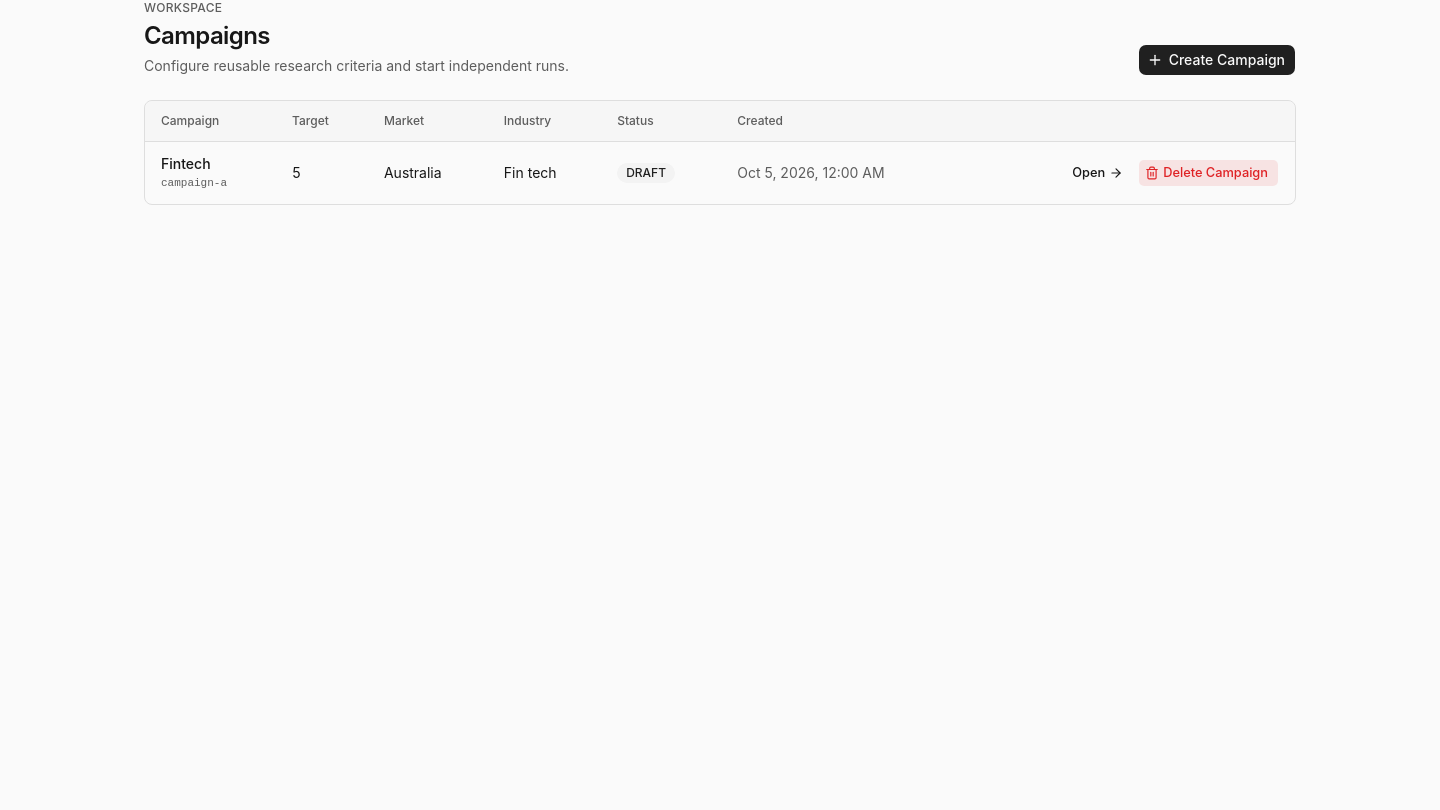
Scenario: CampaignsPage › deletes the selected campaign and refreshes the list after success
The width and height of the screenshot is (1440, 810).
Click the button with aria-label "Delete Campaign campaign-a" at (1209, 173), box [1138,159,1279,187]
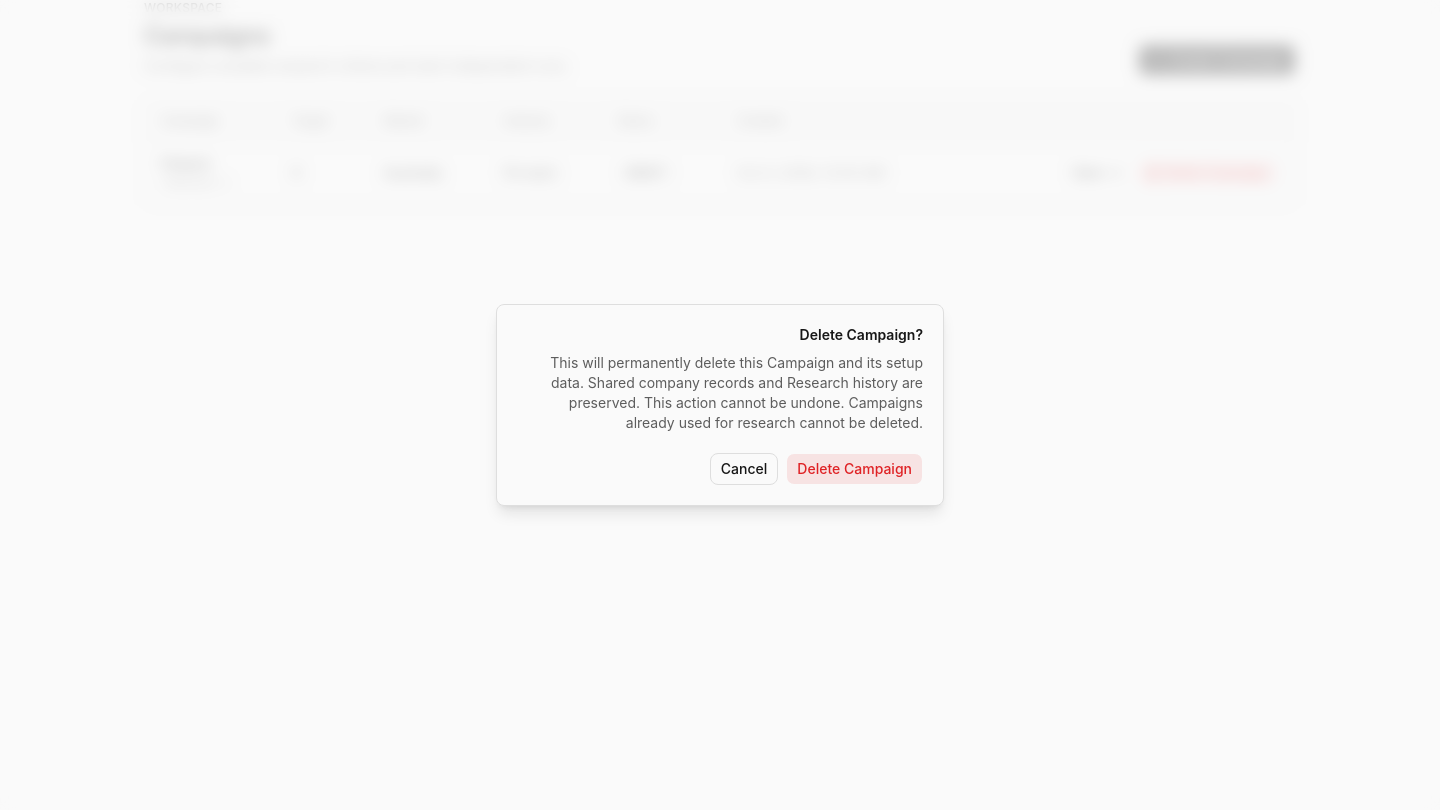
Click the button "Delete Campaign" below "Delete Campaign?" at (855, 469), box [786,453,923,485]
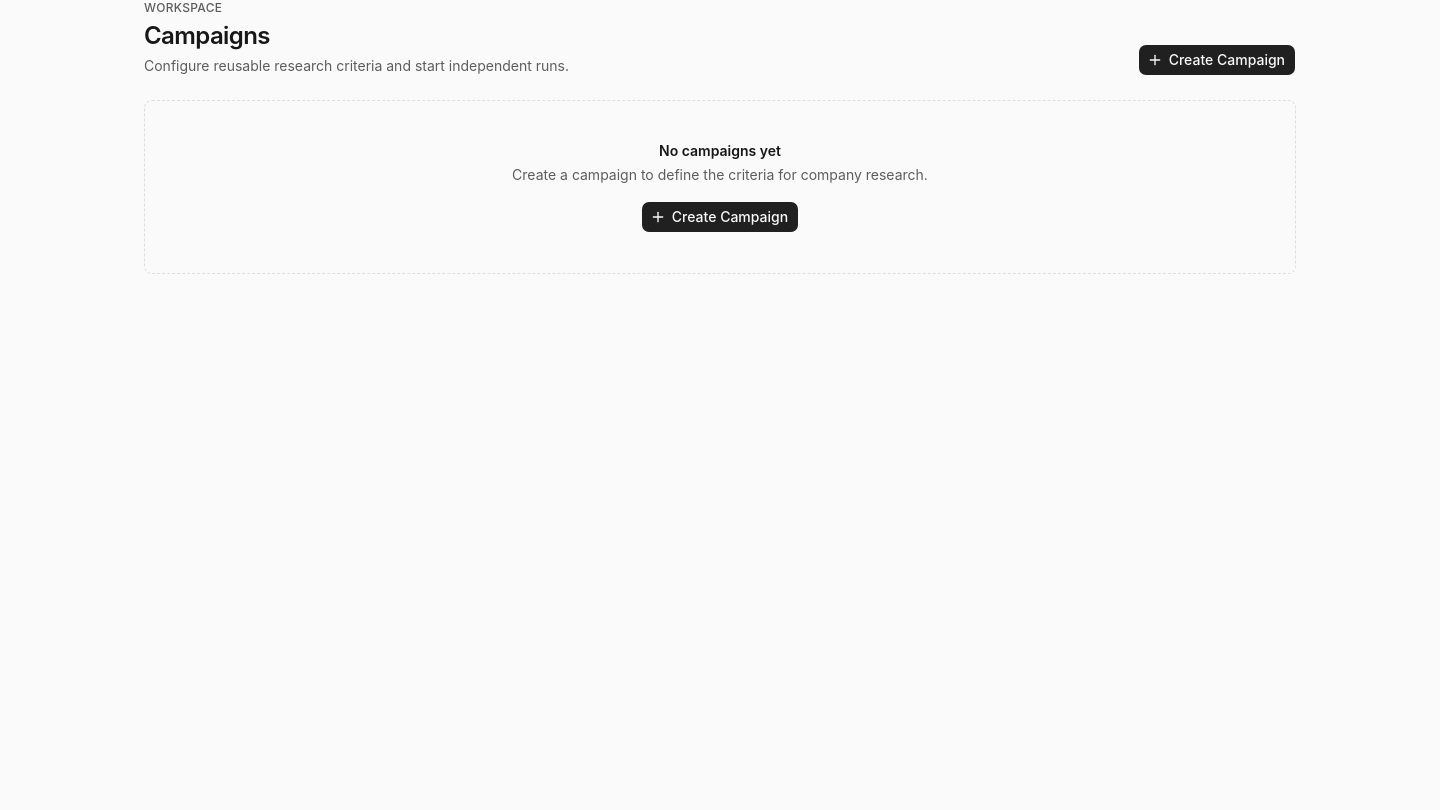
Result: the heading "No campaigns yet" is shown at [659,142,781,159]
